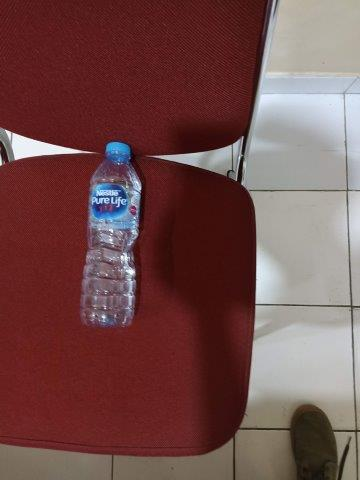botolplastik: (80, 142, 141, 327)
